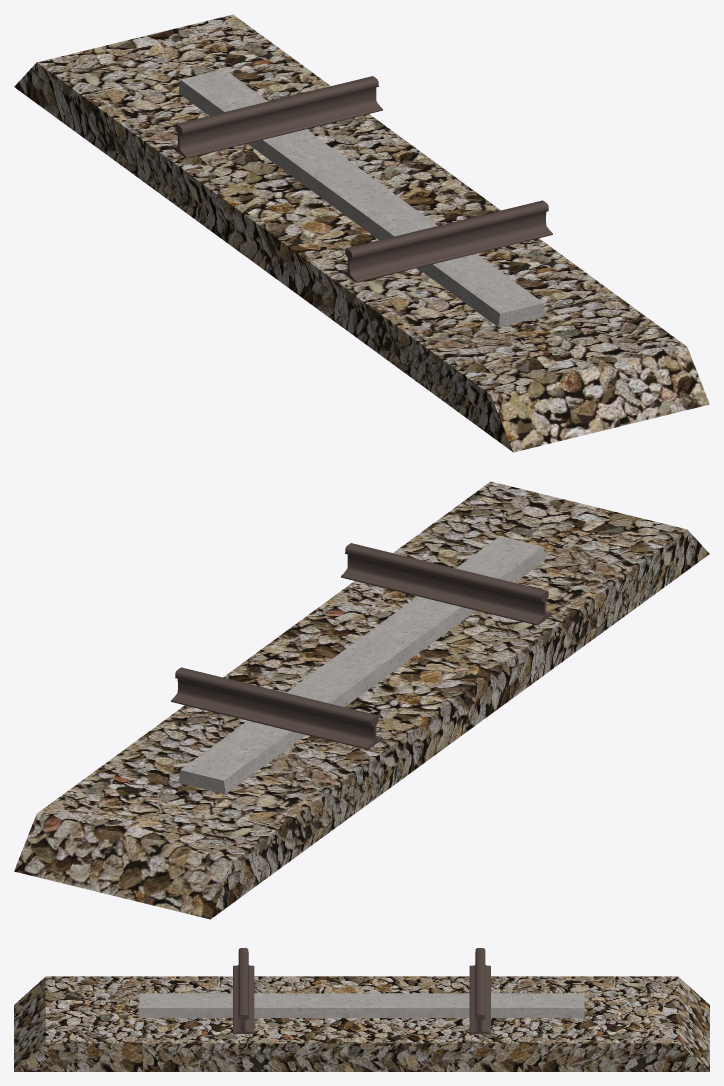
Rendered from sweethome3d-scopia-railroad-1m.glb.
3 renders of one model, top to bottom at view 1: azimuth 30°, elevation 25°; view 2: azimuth 150°, elevation 25°; view 3: azimuth 270°, elevation 25°, orthographic. The views are drawn at different scales.
Visible parts, largest first — view 1: ballastDroit1m_Plane.001, droit1m_BezierCurve.003, traverseDroit1m_Cube.001; view 2: ballastDroit1m_Plane.001, droit1m_BezierCurve.003, traverseDroit1m_Cube.001; view 3: ballastDroit1m_Plane.001, traverseDroit1m_Cube.001, droit1m_BezierCurve.003.
Boxes of the visible parts, <box> form: ballastDroit1m_Plane.001: <box>14,14,709,452</box>; droit1m_BezierCurve.003: <box>171,76,552,282</box>; traverseDroit1m_Cube.001: <box>178,69,545,327</box>; ballastDroit1m_Plane.001: <box>14,481,709,919</box>; droit1m_BezierCurve.003: <box>171,543,552,749</box>; traverseDroit1m_Cube.001: <box>178,536,545,794</box>; ballastDroit1m_Plane.001: <box>14,976,709,1071</box>; traverseDroit1m_Cube.001: <box>139,993,584,1017</box>; droit1m_BezierCurve.003: <box>233,948,490,1033</box>.
Size of the model in its own units: 100 by 39.86 by 440.
3 materials, 2 textured.
